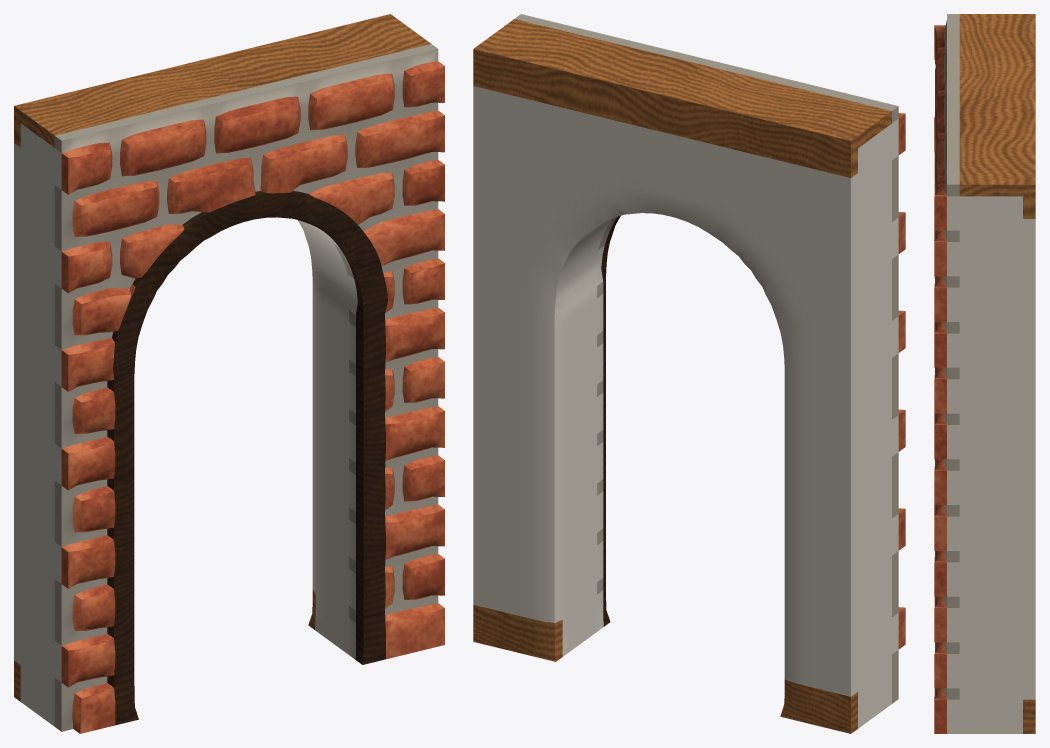
File: wall_out_brick_doorway.glb
The picture shows the model from 3 angles, left to right: view 1: azimuth 30°, elevation 25°; view 2: azimuth 150°, elevation 25°; view 3: azimuth 270°, elevation 25°; orthographic projection. The views are drawn at different scales.
Parts seen in each view (by area): view 1: town_wall_out_brick_doorway; view 2: town_wall_out_brick_doorway; view 3: town_wall_out_brick_doorway.
Boxes of the visible parts, box(x1,y1,x2,y2) form: town_wall_out_brick_doorway: box(14, 14, 444, 733); town_wall_out_brick_doorway: box(473, 14, 905, 733); town_wall_out_brick_doorway: box(934, 14, 1035, 733).
Size of the model in its own units: 1 by 1.5 by 0.25.
Materials: 3 (1 with a texture image).
